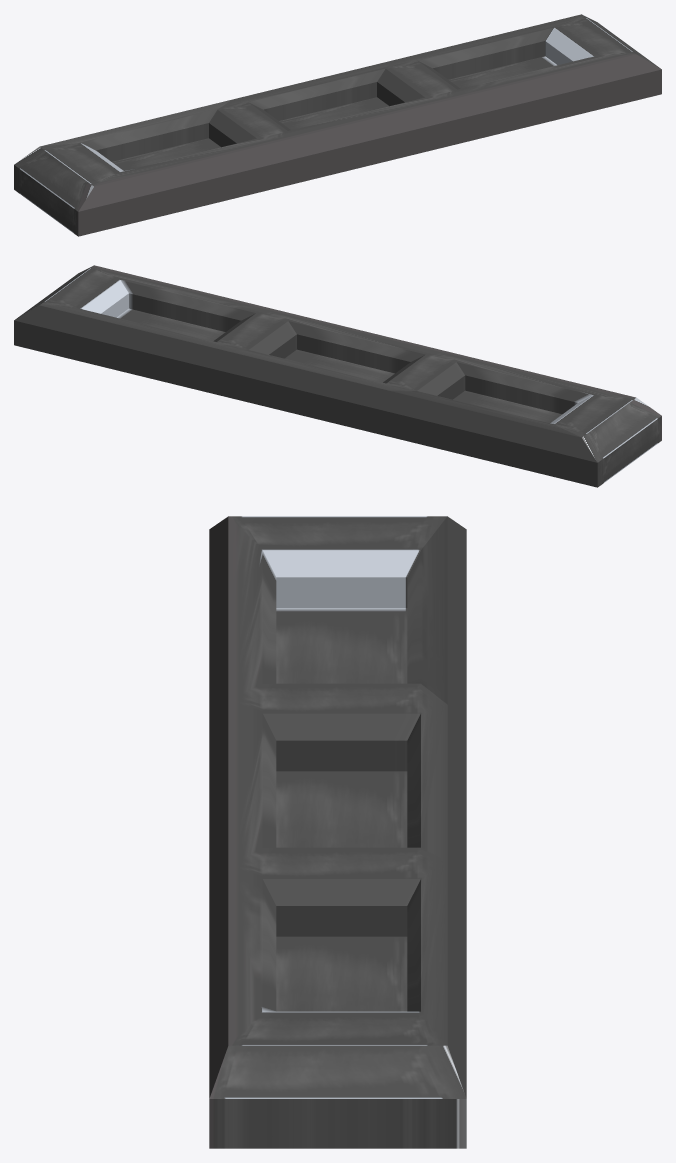
File: Light.002.fbx
3 renders of one model, top to bottom at view 1: azimuth 30°, elevation 25°; view 2: azimuth 150°, elevation 25°; view 3: azimuth 270°, elevation 25°, orthographic. The views are drawn at different scales.
Visible parts, largest first — view 1: Light.002; view 2: Light.002; view 3: Light.002.
Part boxes in pixels (x1=…): Light.002: x1=14, y1=14, x2=661, y2=236; Light.002: x1=14, y1=265, x2=661, y2=487; Light.002: x1=209, y1=516, x2=466, y2=1148.
Bounding box in the file's own units: 690 × 46.86 × 132.
